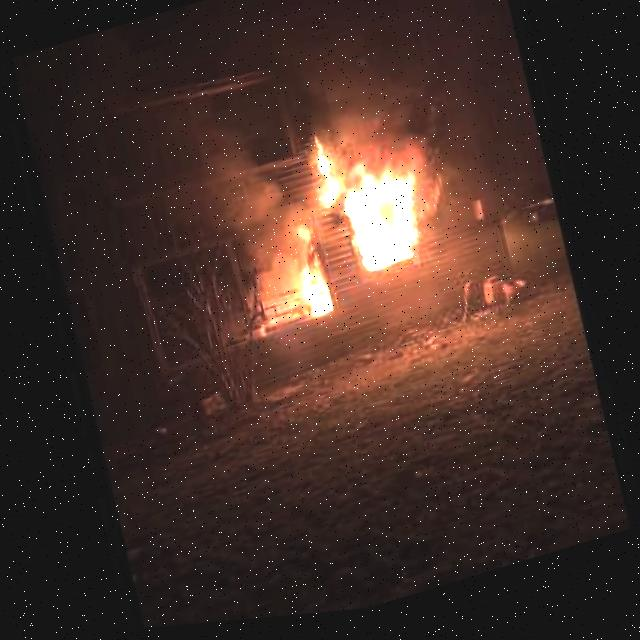Fire: (334, 155, 433, 283), (309, 133, 343, 211), (295, 262, 333, 323)
Smoke: (172, 100, 315, 299)
